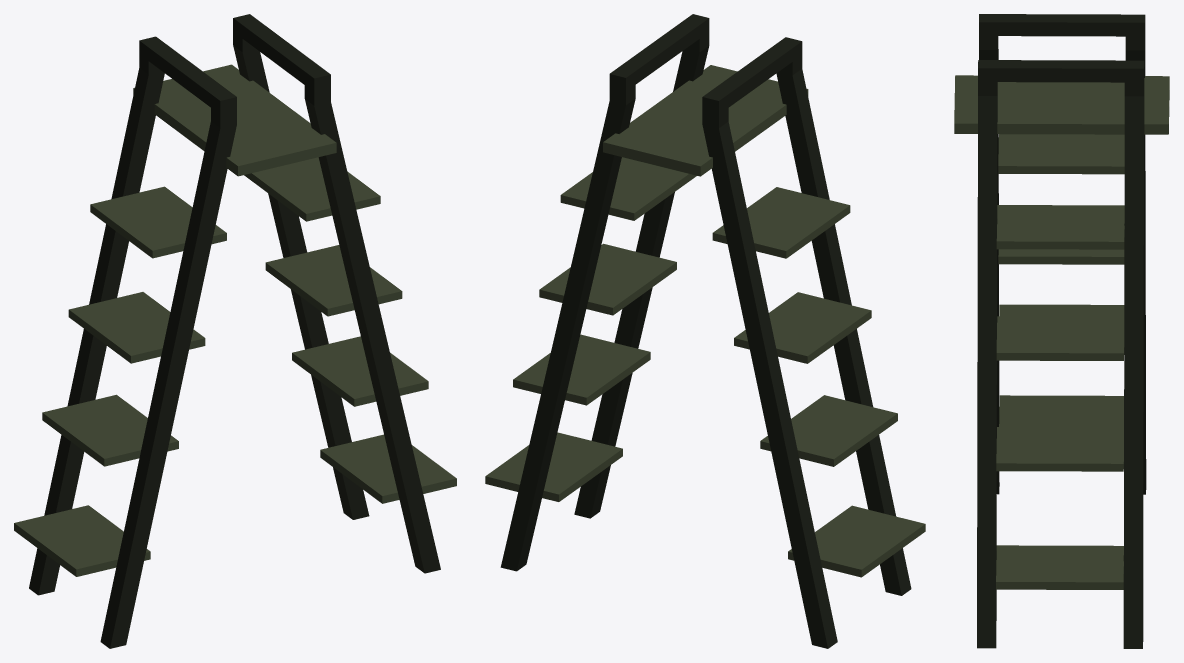
The model's file is escada.fbx.
3 views of the same model, side by side, from view 1: azimuth 30°, elevation 25°; view 2: azimuth 150°, elevation 25°; view 3: azimuth 270°, elevation 25° (orthographic).
Parts seen in each view (by area): view 1: escada; view 2: escada; view 3: escada.
Part boxes in pixels (x1,y1,x2,y2): escada: (14, 14, 456, 648); escada: (485, 14, 925, 648); escada: (954, 14, 1169, 648).
Bounding box in the file's own units: 167 × 219 × 81.32.
